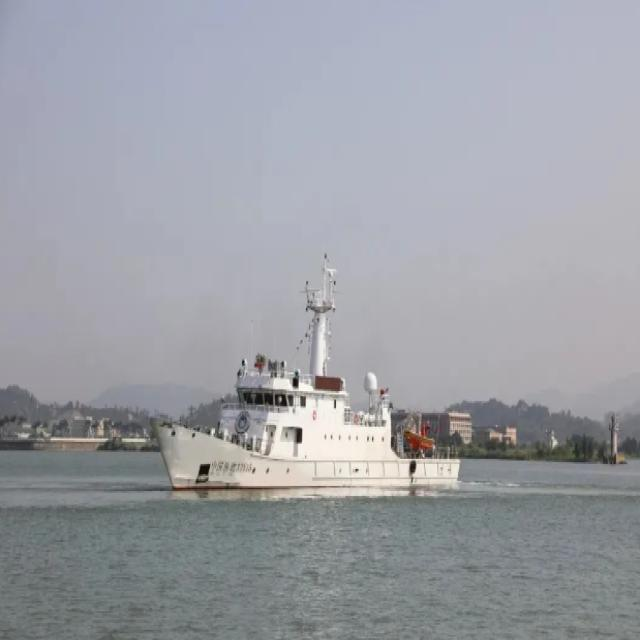houseboat: (156, 236, 467, 518)
